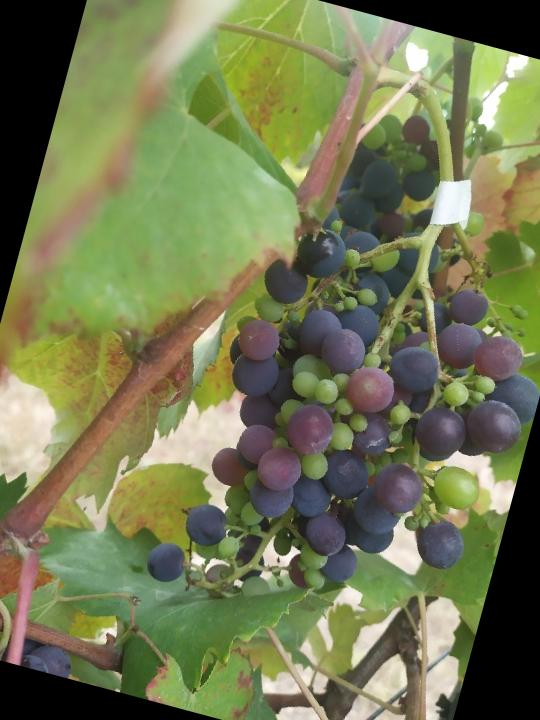grape: (139, 184, 540, 667)
